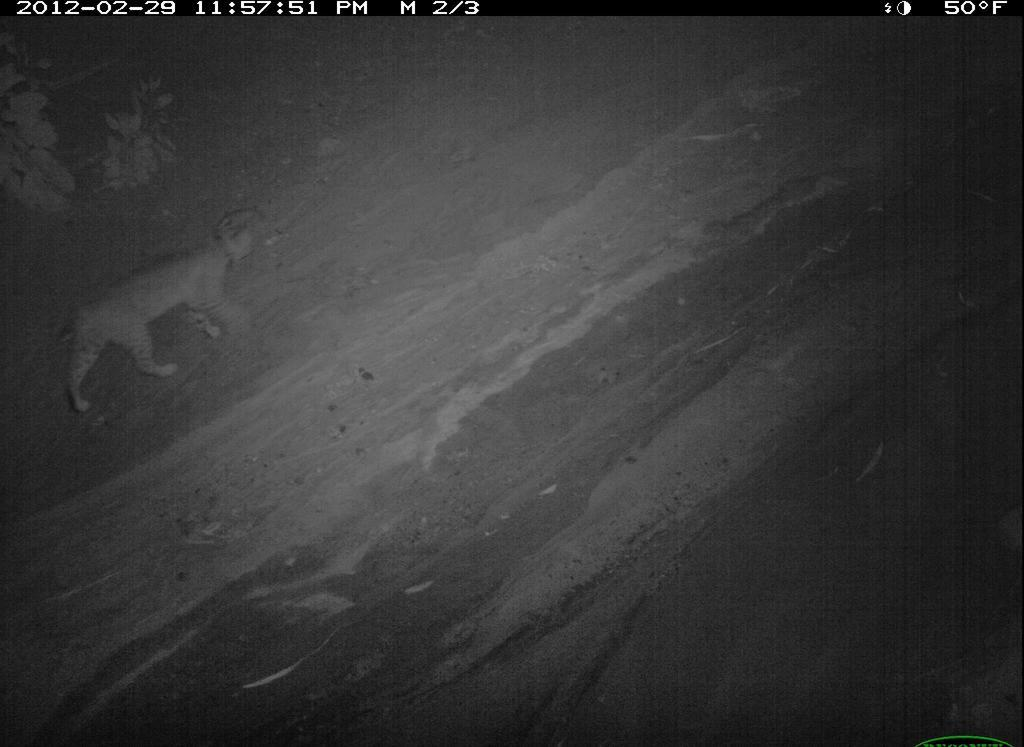bobcat: (105, 409, 526, 747)
